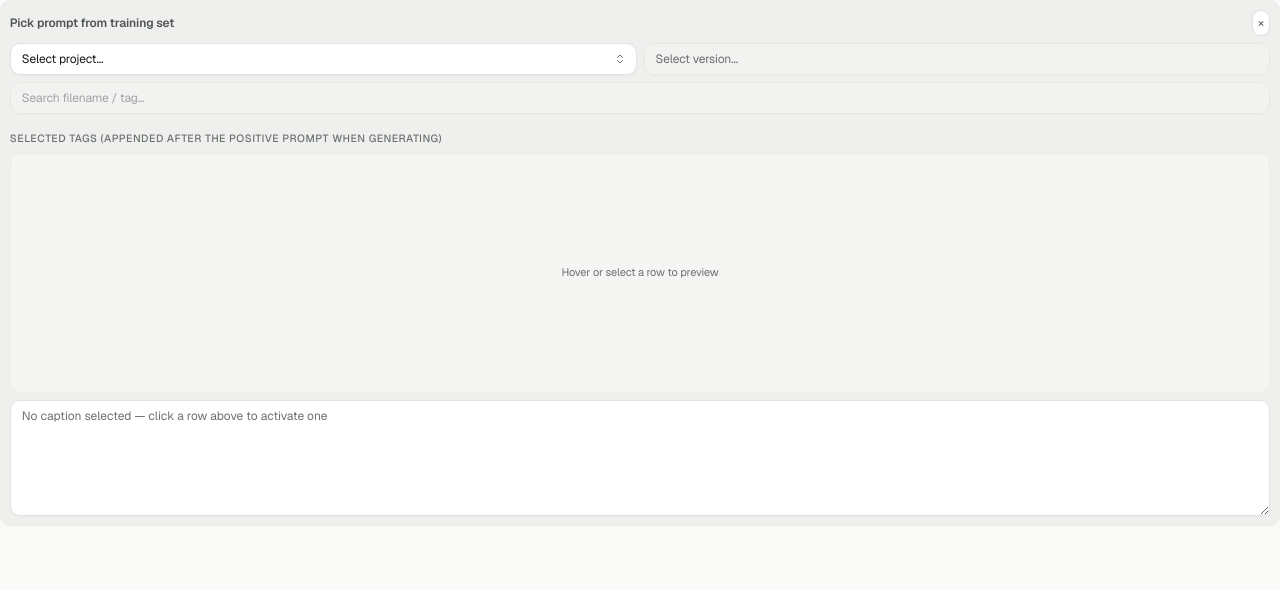
Scenario: PromptFromDatasetPicker - thumbnail / pid-vid sync › row thumbnail URL is anchored to the current (pid, vid) + row filename
Select "projA" in the dropdown named "Select project" at (323, 59), box [10,43,637,75]
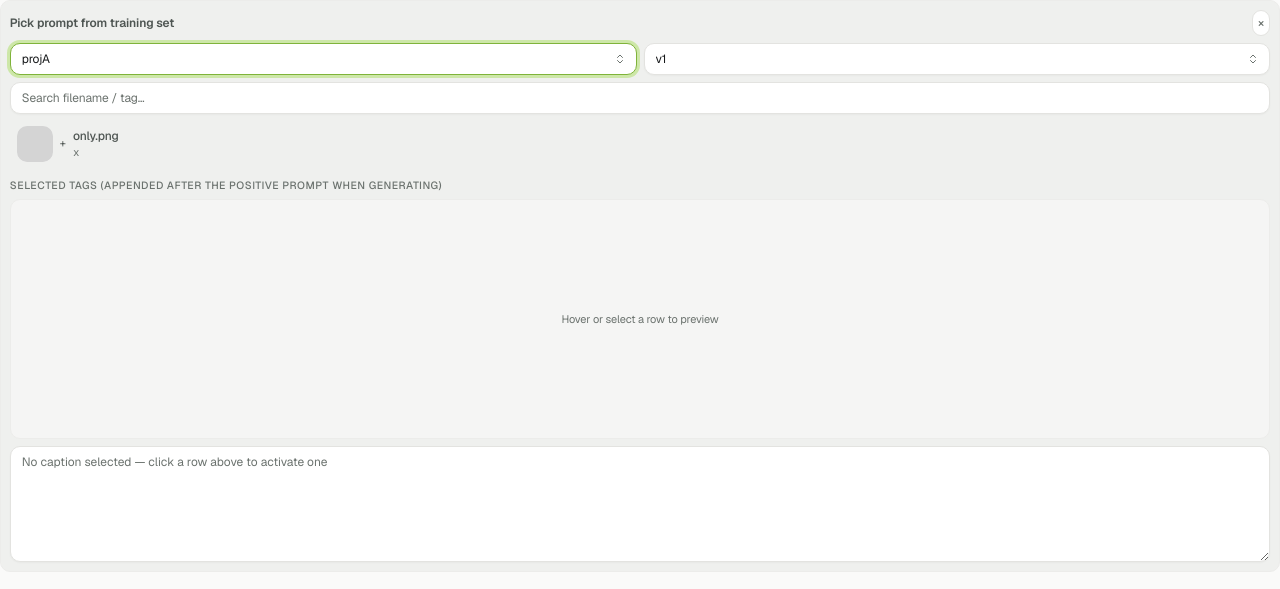
Now the text "only.png" is shown, box [73,128,119,144]
